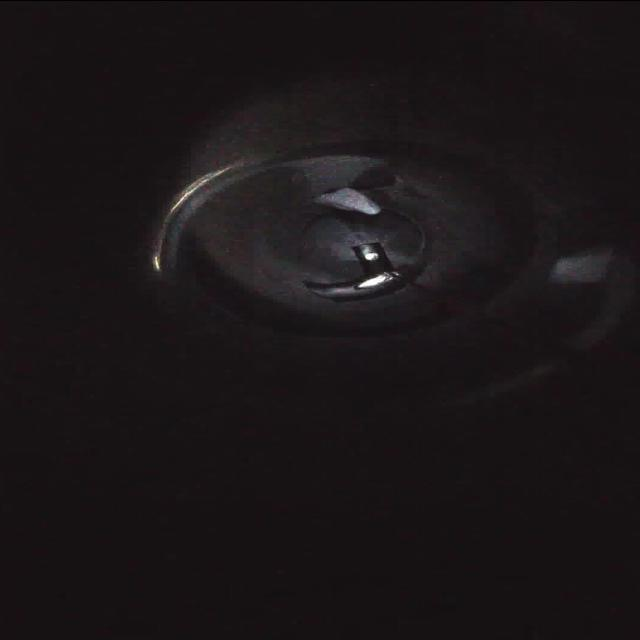impurity: (302, 180, 387, 224)
